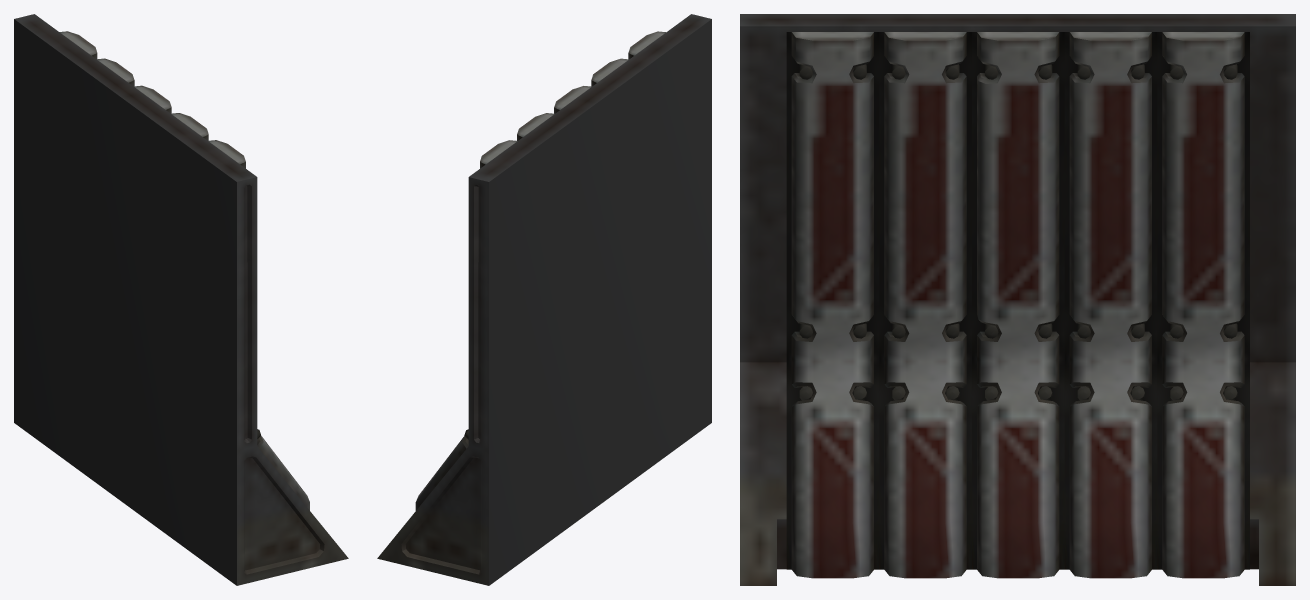
Rendered from Wall_08.FBX.
3 views of the same model, side by side, from view 1: azimuth 30°, elevation 25°; view 2: azimuth 150°, elevation 25°; view 3: azimuth 270°, elevation 25° (orthographic). The views are drawn at different scales.
Visible parts, largest first — view 1: Wall_08; view 2: Wall_08; view 3: Wall_08.
Boxes of the visible parts, bbox=[...] form: Wall_08: bbox=[14, 14, 348, 585]; Wall_08: bbox=[377, 14, 711, 585]; Wall_08: bbox=[740, 14, 1295, 585].
Bounding box in the file's own units: 87.08 × 300 × 300.
